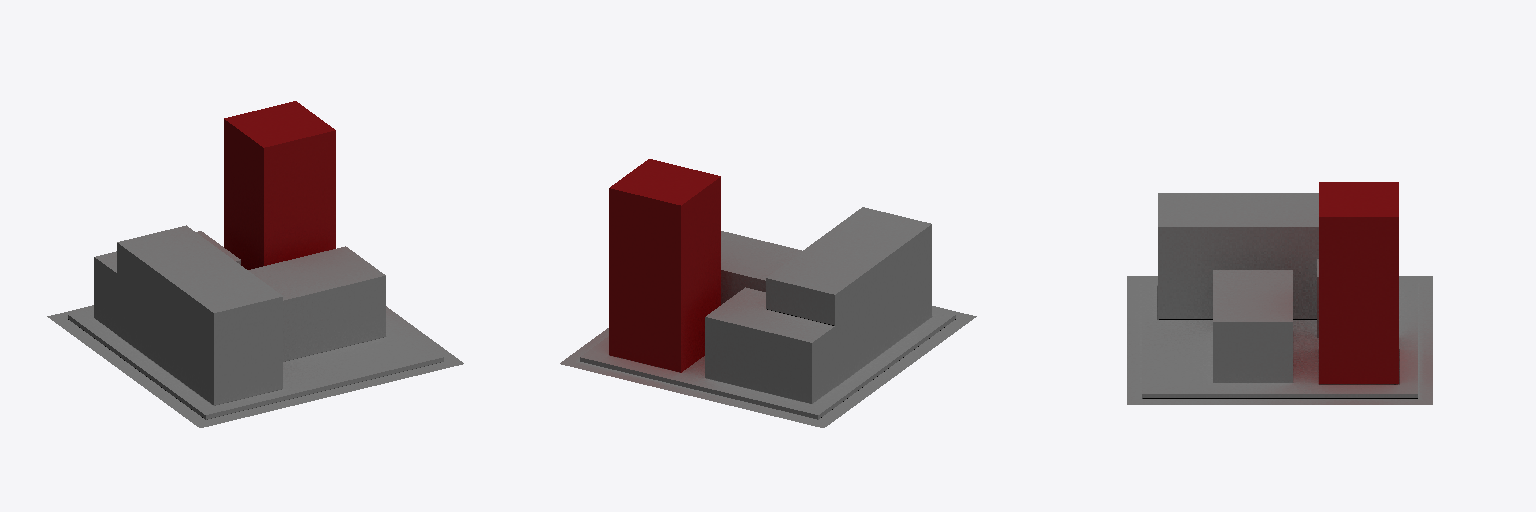
3 views of the same model, side by side, from view 1: azimuth 30°, elevation 25°; view 2: azimuth 150°, elevation 25°; view 3: azimuth 270°, elevation 25° (orthographic).
Parts seen in each view (by area): view 1: Plane; view 2: Plane; view 3: Plane.
Part boxes in pixels (x1,y1,x2,y2): Plane: (47, 101, 463, 427); Plane: (560, 159, 976, 427); Plane: (1127, 182, 1432, 404).
Bounding box in the file's own units: 2 × 1.26 × 2.
1 materials, 1 textured.